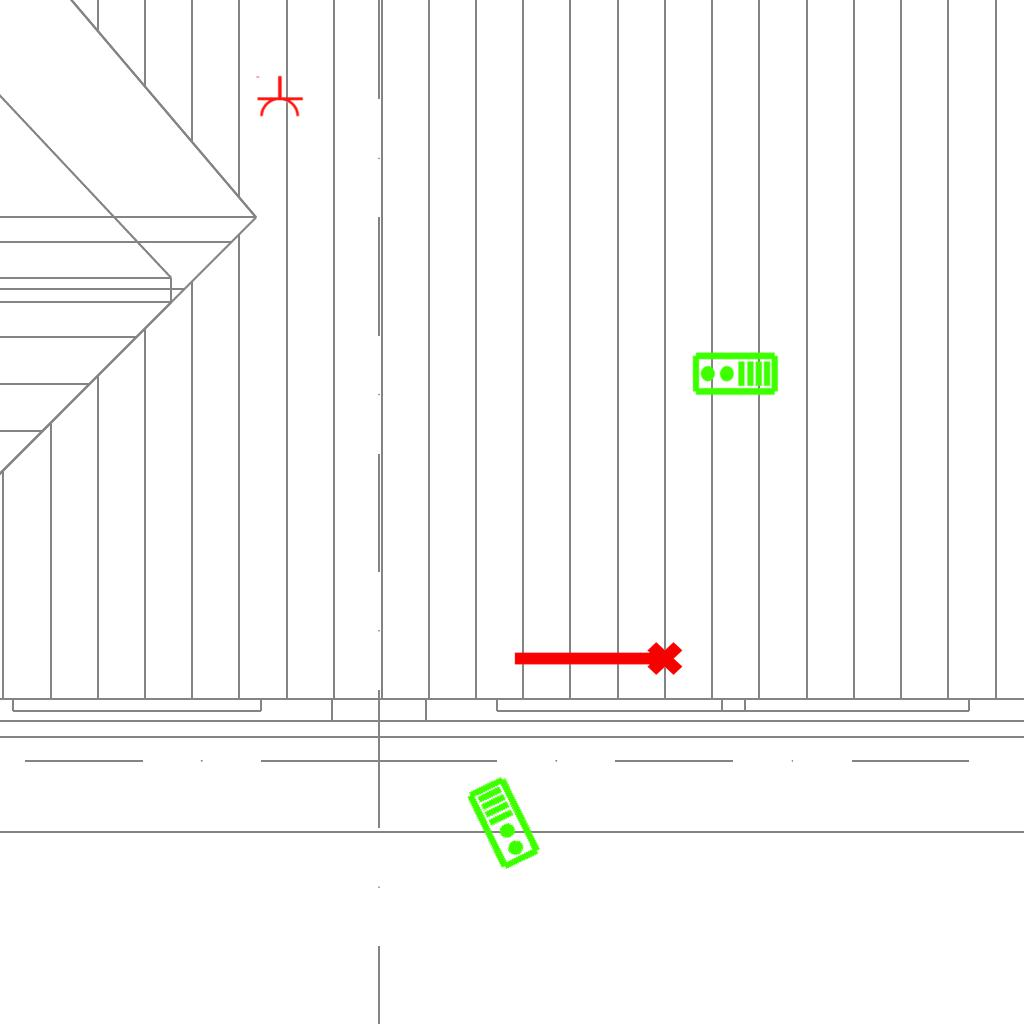ASR_Ansaugoeffnung: (509, 638, 685, 684)
Gegensprechanlage_mit_Video: (464, 773, 545, 873), (691, 351, 779, 398)
Schukosteckdose_einfach: (254, 75, 304, 118)
